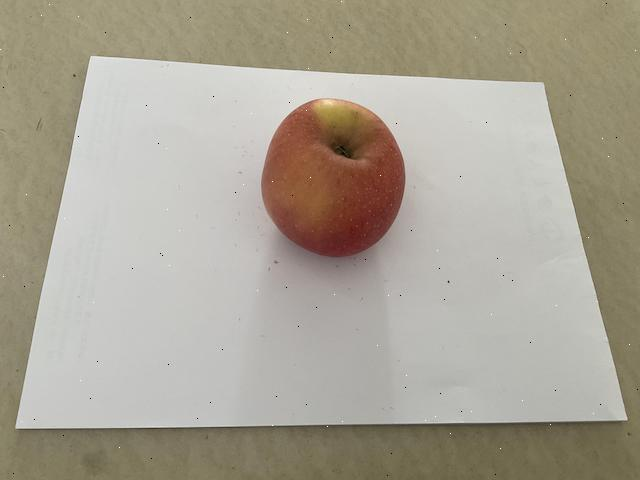apple: (258, 92, 412, 259)
